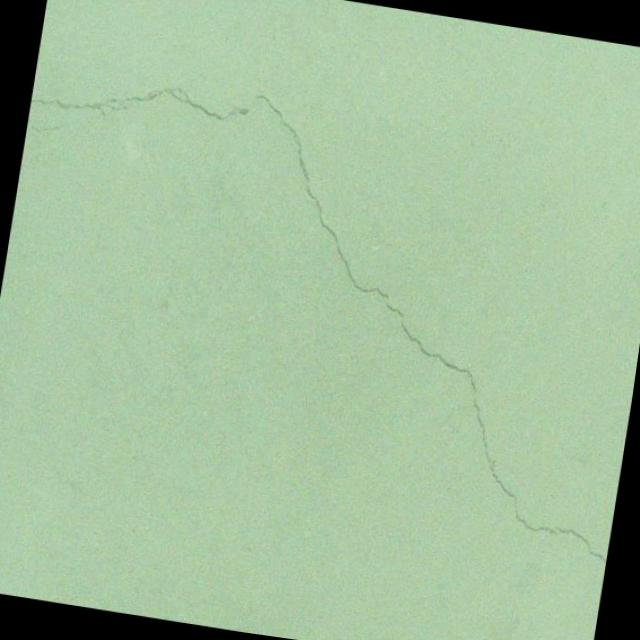crack: (0, 57, 640, 564)
